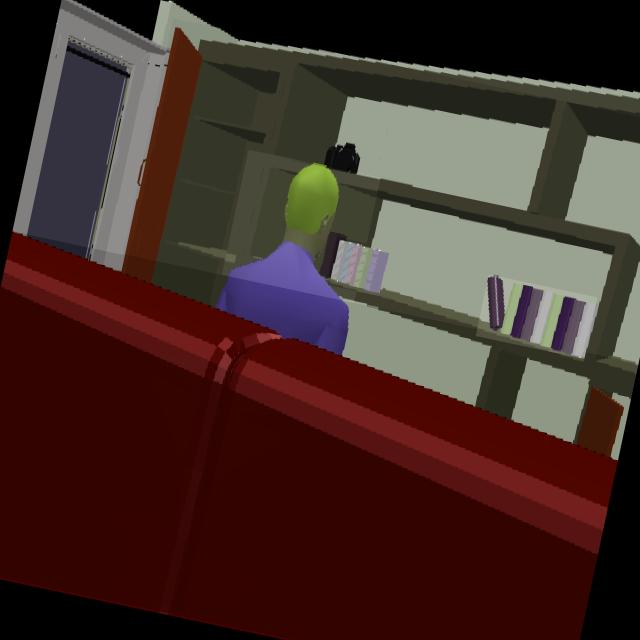book: (486, 277, 595, 357), (328, 238, 389, 296)
bookshelf: (122, 32, 640, 417)
person: (216, 165, 349, 353)
sofa: (0, 231, 617, 640)
